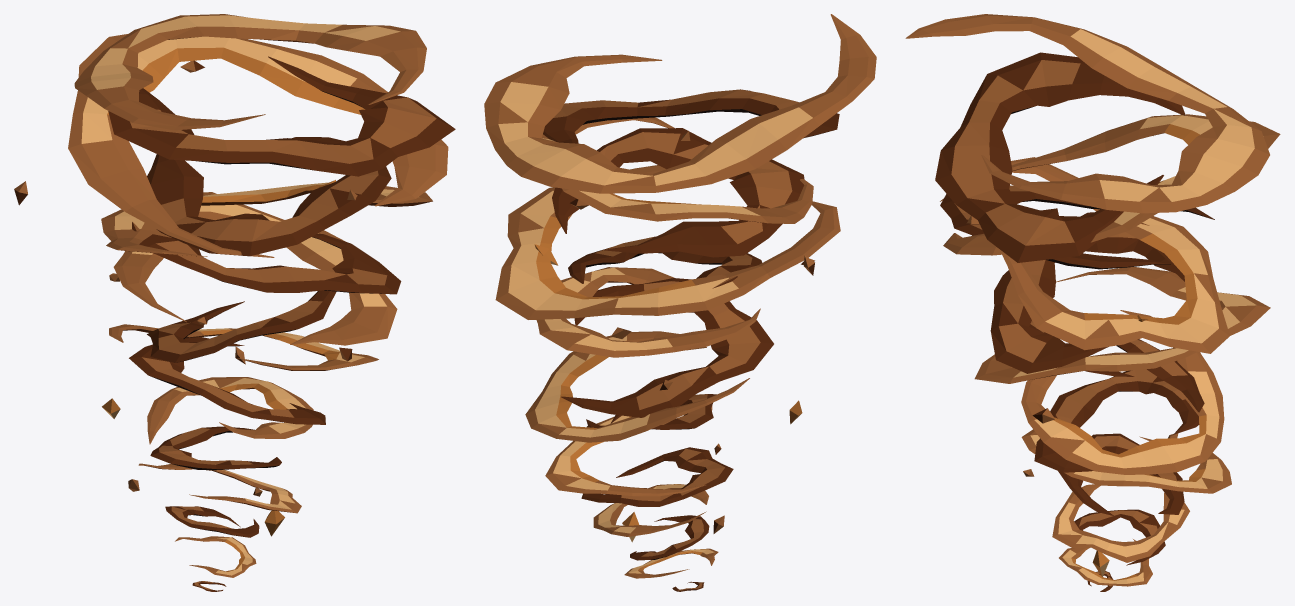
The model's file is Dust_Devil.fbx.
The picture shows the model from 3 angles, left to right: view 1: azimuth 30°, elevation 25°; view 2: azimuth 150°, elevation 25°; view 3: azimuth 270°, elevation 25°; orthographic projection. The views are drawn at different scales.
Parts seen in each view (by area): view 1: Wind_Ribbon_14, Wind_Ribbon_16, Wind_Ribbon_15, Wind_Ribbon_13, Wind_Ribbon_10.001, Wind_Ribbon_11, Wind_Ribbon_09.001, Wind_Ribbon_12, Wind_Ribbon_06.001, Wind_Ribbon_07.001, Wind_Ribbon_08.001, Wind_Ribbon_05.001 (+3 smaller); view 2: Wind_Ribbon_16, Wind_Ribbon_12, Wind_Ribbon_13, Wind_Ribbon_09.001, Wind_Ribbon_08.001, Wind_Ribbon_10.001, Wind_Ribbon_15, Wind_Ribbon_14, Wind_Ribbon_05.001, Wind_Ribbon_06.001, Wind_Ribbon_11, Wind_Ribbon_04.001 (+3 smaller); view 3: Wind_Ribbon_16, Wind_Ribbon_15, Wind_Ribbon_12, Wind_Ribbon_08.001, Wind_Ribbon_11, Wind_Ribbon_10.001, Wind_Ribbon_14, Wind_Ribbon_07.001, Wind_Ribbon_04.001, Wind_Ribbon_06.001, Wind_Ribbon_13, Wind_Ribbon_05.001 (+3 smaller).
Part boxes in pixels (<box>): Wind_Ribbon_14: <box>68,34,448,257</box>; Wind_Ribbon_16: <box>74,14,426,130</box>; Wind_Ribbon_15: <box>108,56,455,176</box>; Wind_Ribbon_13: <box>147,137,391,256</box>; Wind_Ribbon_10.001: <box>113,192,397,345</box>; Wind_Ribbon_11: <box>132,222,401,294</box>; Wind_Ribbon_09.001: <box>147,290,336,362</box>; Wind_Ribbon_12: <box>101,182,432,256</box>; Wind_Ribbon_06.001: <box>147,377,313,444</box>; Wind_Ribbon_07.001: <box>129,337,325,424</box>; Wind_Ribbon_08.001: <box>109,324,378,370</box>; Wind_Ribbon_05.001: <box>150,426,281,470</box>; Wind_Ribbon_16: <box>484,14,876,193</box>; Wind_Ribbon_12: <box>495,165,840,319</box>; Wind_Ribbon_13: <box>552,128,804,257</box>; Wind_Ribbon_09.001: <box>561,278,773,417</box>; Wind_Ribbon_08.001: <box>525,331,749,442</box>; Wind_Ribbon_10.001: <box>536,267,760,357</box>; Wind_Ribbon_15: <box>543,89,839,143</box>; Wind_Ribbon_14: <box>541,117,813,223</box>; Wind_Ribbon_05.001: <box>581,447,733,506</box>; Wind_Ribbon_06.001: <box>545,405,712,496</box>; Wind_Ribbon_11: <box>568,236,762,288</box>; Wind_Ribbon_04.001: <box>593,484,708,536</box>; Wind_Ribbon_16: <box>905,14,1269,213</box>; Wind_Ribbon_15: <box>935,52,1185,262</box>; Wind_Ribbon_12: <box>1002,157,1229,353</box>; Wind_Ribbon_08.001: <box>1021,310,1224,474</box>; Wind_Ribbon_11: <box>990,212,1184,373</box>; Wind_Ribbon_10.001: <box>974,267,1270,383</box>; Wind_Ribbon_14: <box>940,114,1280,255</box>; Wind_Ribbon_07.001: <box>1034,369,1199,472</box>; Wind_Ribbon_04.001: <box>1052,484,1189,562</box>; Wind_Ribbon_06.001: <box>1021,429,1231,493</box>; Wind_Ribbon_13: <box>940,185,1214,269</box>; Wind_Ribbon_05.001: <box>1058,433,1184,515</box>.
Bounding box in the file's own units: 483 × 699 × 454.
